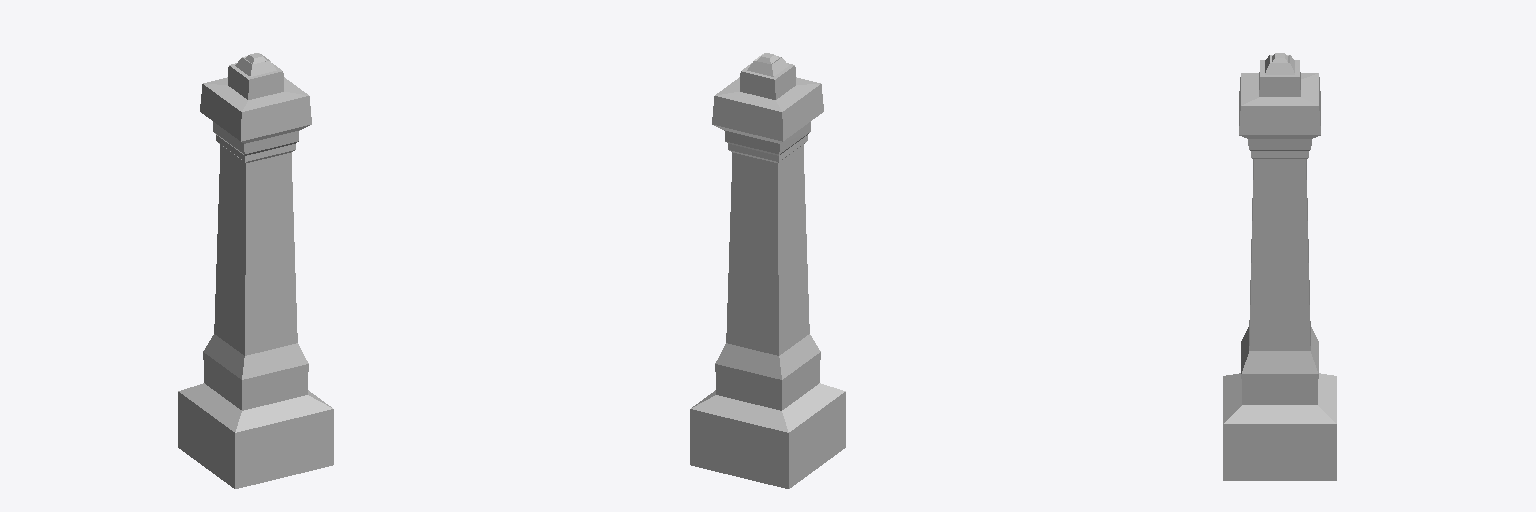
The model's file is cemetery_object_3_001.obj.
The picture shows the model from 3 angles: view 1: azimuth 30°, elevation 25°; view 2: azimuth 150°, elevation 25°; view 3: azimuth 270°, elevation 25°; orthographic projection.
Parts seen in each view (by area): view 1: GraveColumn_grave4; view 2: GraveColumn_grave4; view 3: GraveColumn_grave4.
Part boxes in pixels (x1,y1,x2,y2): GraveColumn_grave4: (178,53,333,488); GraveColumn_grave4: (690,53,845,488); GraveColumn_grave4: (1223,53,1336,480).
Bounding box in the file's own units: 1.98 × 7.69 × 1.98.